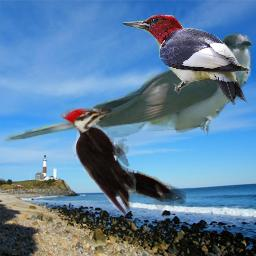Cuckoo: (2, 31, 252, 146)
Woodpecker: (60, 108, 186, 217), (123, 15, 250, 105)
